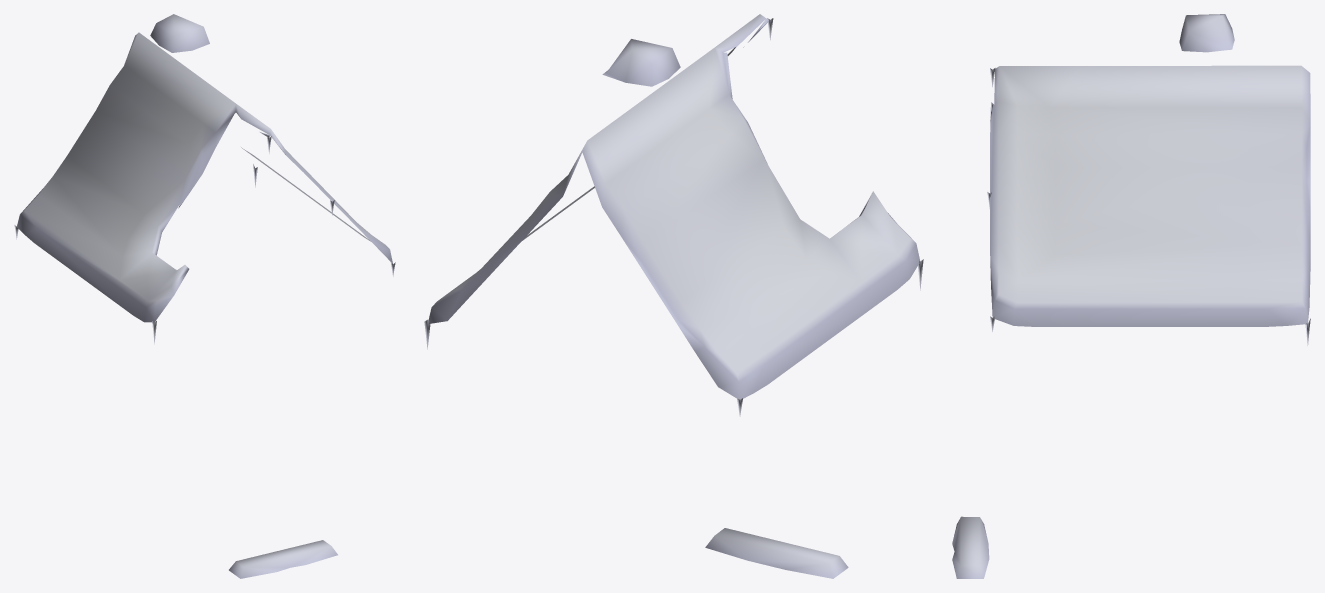
The model's file is category.governance.xs.snow.glb.
The picture shows the model from 3 angles, left to right: view 1: azimuth 30°, elevation 25°; view 2: azimuth 150°, elevation 25°; view 3: azimuth 270°, elevation 25°; orthographic projection. The views are drawn at different scales.
Visible parts, largest first — view 1: snow, tier.2, tier.4; view 2: snow, tier.2, tier.4; view 3: snow, tier.2, tier.4.
Part boxes in pixels (<box>): snow: <box>14,32,395,344</box>; tier.2: <box>229,540,337,578</box>; tier.4: <box>150,14,209,52</box>; snow: <box>424,14,923,416</box>; tier.2: <box>705,528,848,578</box>; tier.4: <box>602,39,680,86</box>; snow: <box>987,65,1310,345</box>; tier.2: <box>952,516,989,578</box>; tier.4: <box>1179,14,1234,52</box>.
Bounding box in the file's own units: 2.2 × 4.06 × 2.46.
